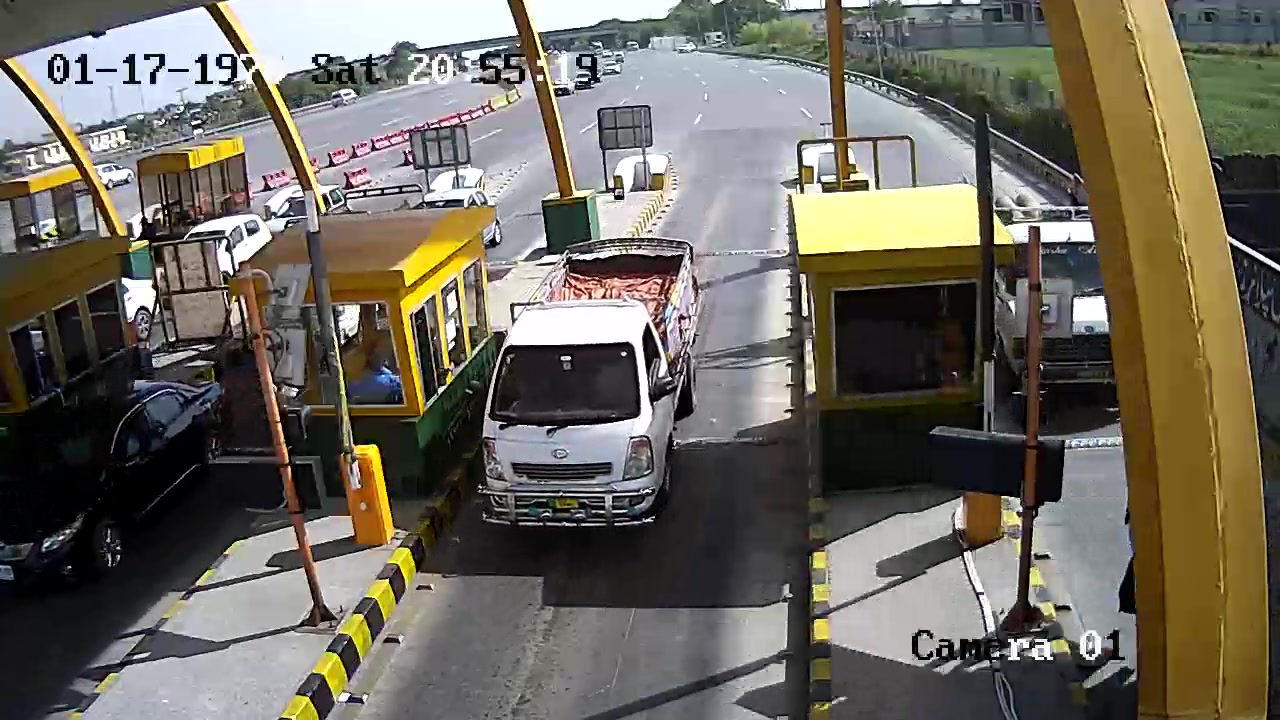F2: (473, 229, 707, 540)
